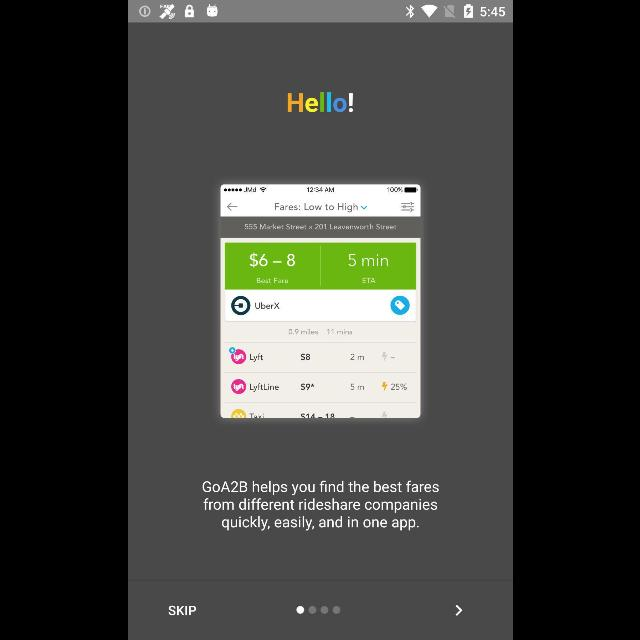icon: (454, 604, 462, 616)
image: (220, 184, 420, 418), (286, 91, 354, 112)
pageindicator: (296, 606, 340, 614)
text: (202, 481, 438, 532), (168, 606, 196, 616)
uppertaskbar: (128, 1, 512, 23)
